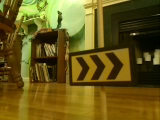right: (70, 48, 134, 84)
